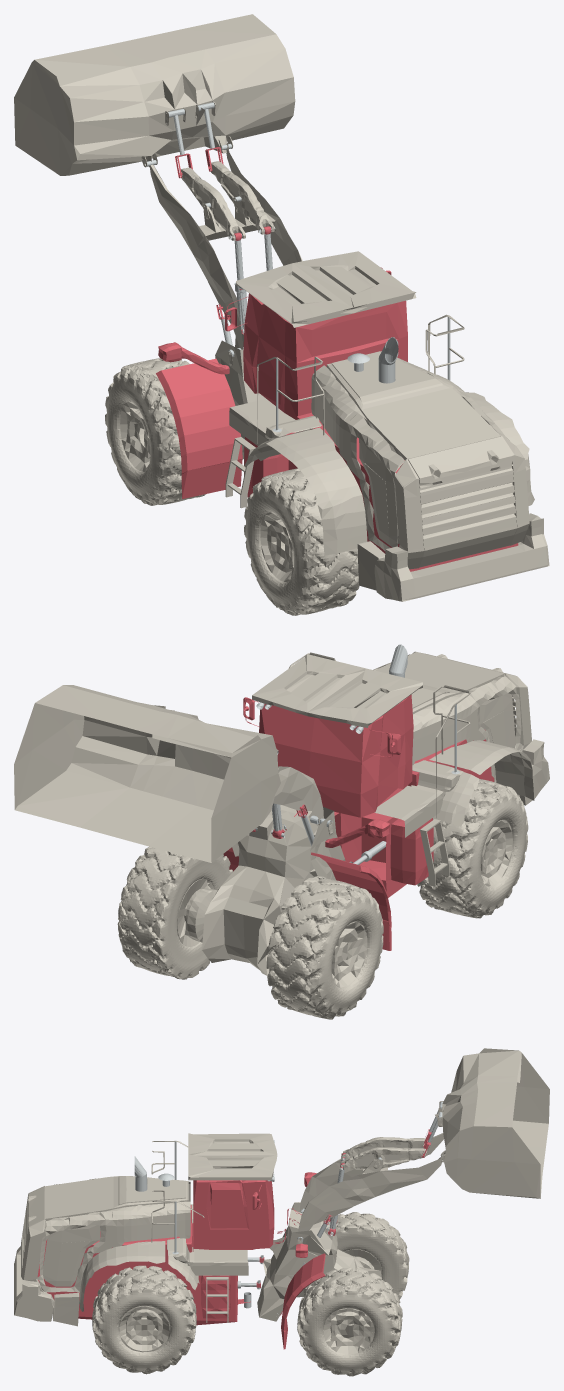
The model's file is cargador_frontal_b.glb.
3 views of the same model, one above another, from view 1: azimuth 30°, elevation 25°; view 2: azimuth 150°, elevation 25°; view 3: azimuth 270°, elevation 25° (orthographic). The views are drawn at different scales.
Visible parts, largest first — view 1: DRILLRUN_cargador_frontal_b_parte_13, DRILLRUN_cargador_frontal_b_parte_63, DRILLRUN_cargador_frontal_b_parte_16, DRILLRUN_cargador_frontal_b_parte_26, DRILLRUN_cargador_frontal_b_parte_12, DRILLRUN_cargador_frontal_b_parte_70, DRILLRUN_cargador_frontal_b_parte_17, DRILLRUN_cargador_frontal_b_parte_28, DRILLRUN_cargador_frontal_b_parte_23, DRILLRUN_cargador_frontal_b_parte_08, DRILLRUN_cargador_frontal_b_parte_29, DRILLRUN_cargador_frontal_b_parte_19 (+16 smaller); view 2: DRILLRUN_cargador_frontal_b_parte_13, DRILLRUN_cargador_frontal_b_parte_17, DRILLRUN_cargador_frontal_b_parte_20, DRILLRUN_cargador_frontal_b_parte_63, DRILLRUN_cargador_frontal_b_parte_16, DRILLRUN_cargador_frontal_b_parte_12, DRILLRUN_cargador_frontal_b_parte_29, DRILLRUN_cargador_frontal_b_parte_15, DRILLRUN_cargador_frontal_b_parte_26, DRILLRUN_cargador_frontal_b_parte_22, DRILLRUN_cargador_frontal_b_parte_28, DRILLRUN_cargador_frontal_b_parte_68 (+13 smaller); view 3: DRILLRUN_cargador_frontal_b_parte_13, DRILLRUN_cargador_frontal_b_parte_17, DRILLRUN_cargador_frontal_b_parte_16, DRILLRUN_cargador_frontal_b_parte_63, DRILLRUN_cargador_frontal_b_parte_29, DRILLRUN_cargador_frontal_b_parte_19, DRILLRUN_cargador_frontal_b_parte_20, DRILLRUN_cargador_frontal_b_parte_26, DRILLRUN_cargador_frontal_b_parte_12, DRILLRUN_cargador_frontal_b_parte_68, DRILLRUN_cargador_frontal_b_parte_15, DRILLRUN_cargador_frontal_b_parte_18 (+12 smaller).
Part boxes in pixels (bbox=[...]): DRILLRUN_cargador_frontal_b_parte_13: bbox=[14, 14, 295, 175]; DRILLRUN_cargador_frontal_b_parte_63: bbox=[243, 293, 407, 419]; DRILLRUN_cargador_frontal_b_parte_16: bbox=[244, 468, 359, 615]; DRILLRUN_cargador_frontal_b_parte_26: bbox=[326, 351, 500, 460]; DRILLRUN_cargador_frontal_b_parte_12: bbox=[236, 251, 416, 327]; DRILLRUN_cargador_frontal_b_parte_70: bbox=[156, 358, 242, 498]; DRILLRUN_cargador_frontal_b_parte_17: bbox=[105, 358, 206, 505]; DRILLRUN_cargador_frontal_b_parte_28: bbox=[266, 392, 534, 555]; DRILLRUN_cargador_frontal_b_parte_23: bbox=[420, 466, 517, 556]; DRILLRUN_cargador_frontal_b_parte_08: bbox=[374, 513, 549, 601]; DRILLRUN_cargador_frontal_b_parte_29: bbox=[311, 357, 513, 550]; DRILLRUN_cargador_frontal_b_parte_19: bbox=[149, 142, 302, 349]; DRILLRUN_cargador_frontal_b_parte_13: bbox=[14, 685, 280, 862]; DRILLRUN_cargador_frontal_b_parte_17: bbox=[117, 846, 383, 1019]; DRILLRUN_cargador_frontal_b_parte_20: bbox=[202, 805, 345, 975]; DRILLRUN_cargador_frontal_b_parte_63: bbox=[259, 694, 413, 817]; DRILLRUN_cargador_frontal_b_parte_16: bbox=[417, 779, 528, 918]; DRILLRUN_cargador_frontal_b_parte_12: bbox=[252, 654, 422, 727]; DRILLRUN_cargador_frontal_b_parte_29: bbox=[373, 654, 522, 782]; DRILLRUN_cargador_frontal_b_parte_15: bbox=[177, 878, 367, 987]; DRILLRUN_cargador_frontal_b_parte_26: bbox=[375, 652, 504, 714]; DRILLRUN_cargador_frontal_b_parte_22: bbox=[374, 760, 463, 837]; DRILLRUN_cargador_frontal_b_parte_28: bbox=[429, 740, 534, 800]; DRILLRUN_cargador_frontal_b_parte_68: bbox=[334, 729, 494, 897]; DRILLRUN_cargador_frontal_b_parte_13: bbox=[435, 1048, 549, 1198]; DRILLRUN_cargador_frontal_b_parte_17: bbox=[297, 1212, 409, 1376]; DRILLRUN_cargador_frontal_b_parte_16: bbox=[92, 1265, 196, 1374]; DRILLRUN_cargador_frontal_b_parte_63: bbox=[193, 1180, 274, 1251]; DRILLRUN_cargador_frontal_b_parte_29: bbox=[36, 1176, 190, 1292]; DRILLRUN_cargador_frontal_b_parte_19: bbox=[297, 1133, 443, 1231]; DRILLRUN_cargador_frontal_b_parte_20: bbox=[257, 1202, 381, 1321]; DRILLRUN_cargador_frontal_b_parte_26: bbox=[45, 1176, 188, 1220]; DRILLRUN_cargador_frontal_b_parte_12: bbox=[188, 1133, 277, 1180]; DRILLRUN_cargador_frontal_b_parte_68: bbox=[37, 1205, 250, 1325]; DRILLRUN_cargador_frontal_b_parte_15: bbox=[323, 1249, 382, 1354]; DRILLRUN_cargador_frontal_b_parte_18: bbox=[339, 1137, 427, 1170].
Size of the model in its own units: 2.77 by 4 by 7.51.
